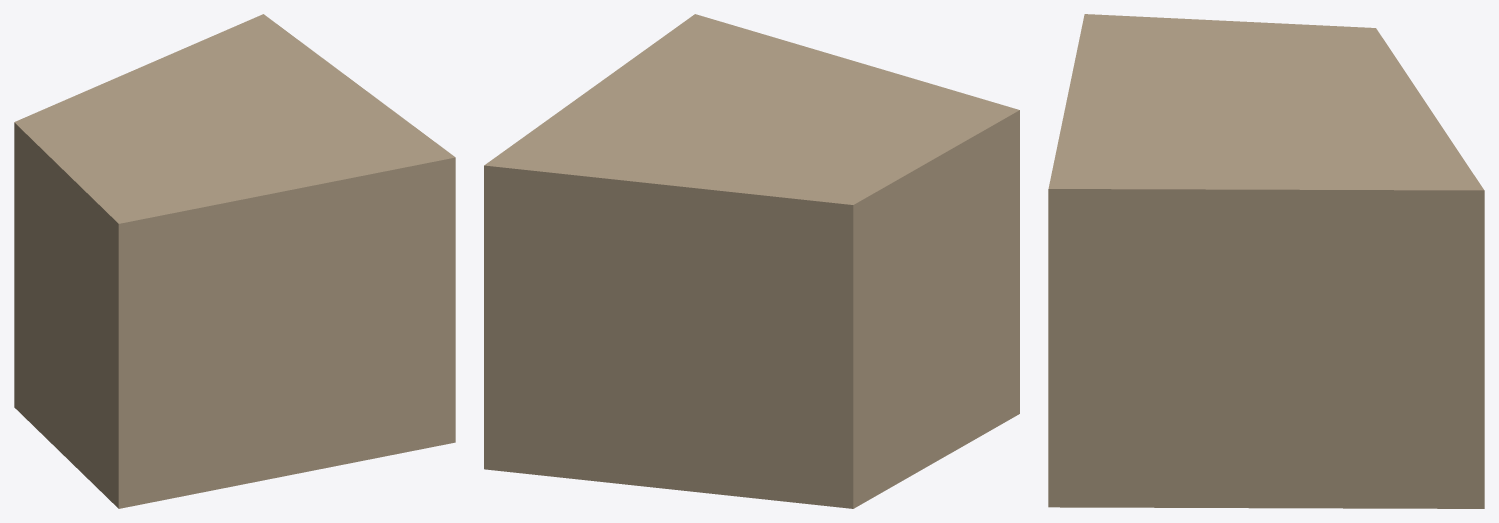
The model's file is bld_99519955.dae.
The picture shows the model from 3 angles, left to right: view 1: azimuth 30°, elevation 25°; view 2: azimuth 150°, elevation 25°; view 3: azimuth 270°, elevation 25°; orthographic projection. The views are drawn at different scales.
Parts seen in each view (by area): view 1: bld_99519955; view 2: bld_99519955; view 3: bld_99519955.
Boxes of the visible parts, bbox=[...] form: bld_99519955: bbox=[14, 14, 455, 508]; bld_99519955: bbox=[484, 14, 1019, 508]; bld_99519955: bbox=[1048, 14, 1484, 508].
Size of the model in its own units: 9.51 by 9.92 by 8.
